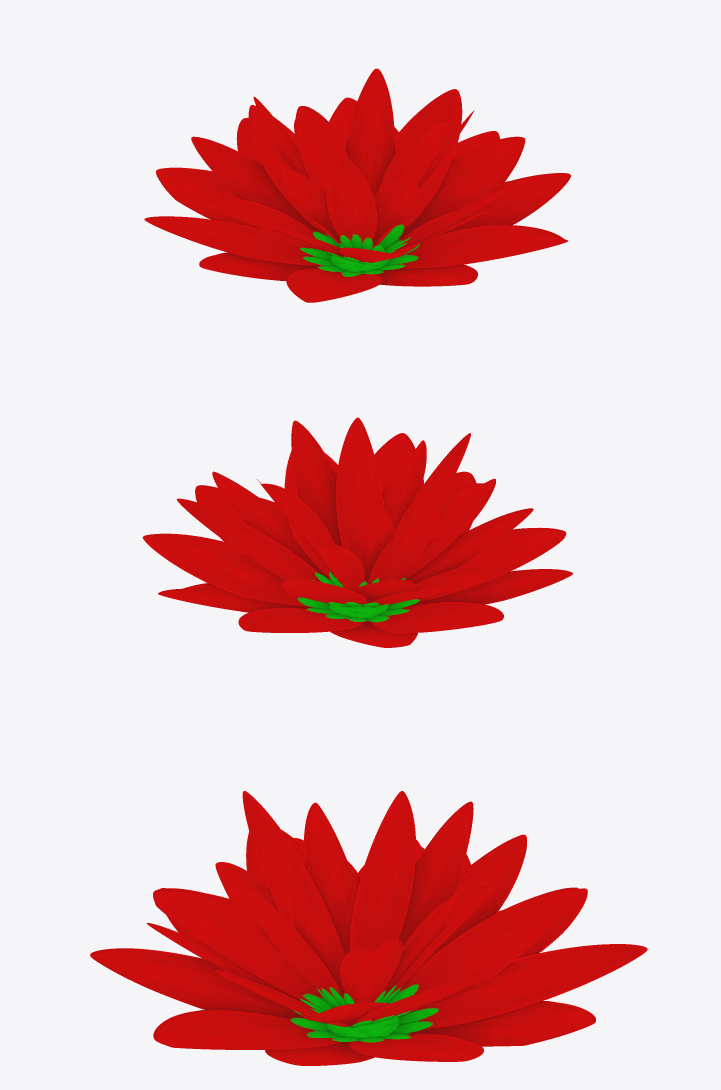
File: LilyFlower01.fbx
3 renders of one model, top to bottom at view 1: azimuth 30°, elevation 25°; view 2: azimuth 150°, elevation 25°; view 3: azimuth 270°, elevation 25°, orthographic. The views are drawn at different scales.
Visible parts, largest first — view 1: LilyFlower01_LOD0; view 2: LilyFlower01_LOD0; view 3: LilyFlower01_LOD0.
Part boxes in pixels (x1,y1,x2,y2): LilyFlower01_LOD0: [144, 68, 570, 302]; LilyFlower01_LOD0: [142, 417, 572, 647]; LilyFlower01_LOD0: [90, 791, 647, 1065].
Size of what is drawn, in the model's own units: 0.3228 by 0.1199 by 0.3228.
